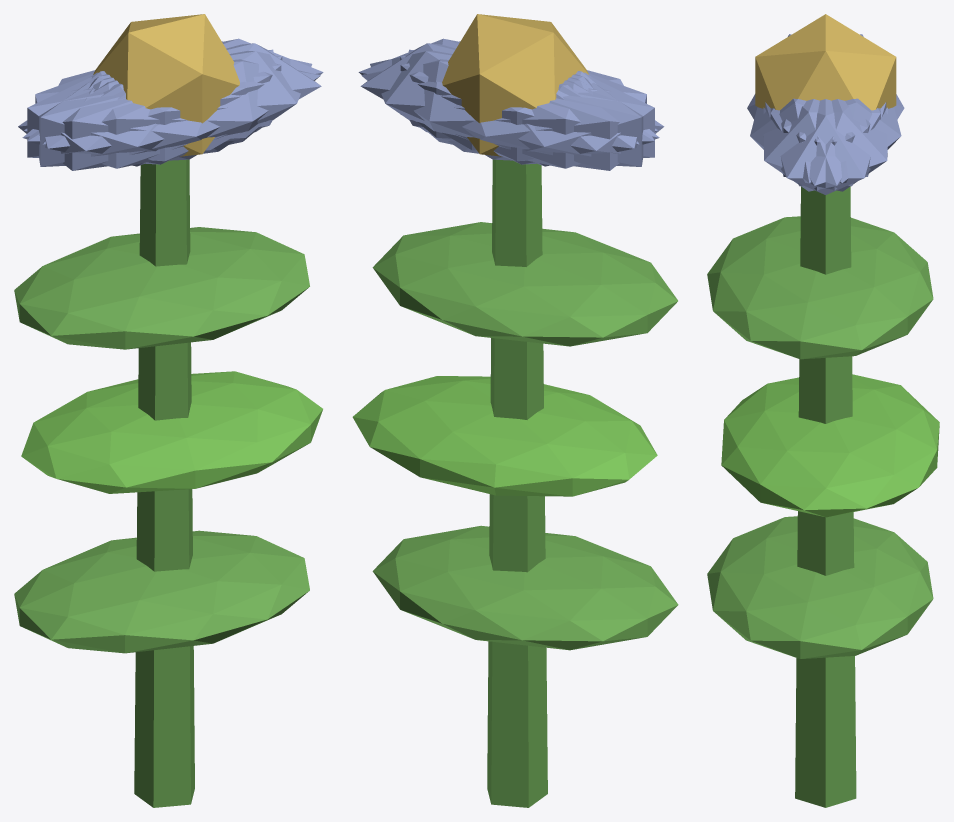
File: abelmoschus-esculentus.glb
3 renders of one model, left to right at view 1: azimuth 30°, elevation 25°; view 2: azimuth 150°, elevation 25°; view 3: azimuth 270°, elevation 25°, orthographic.
Parts seen in each view (by area): view 1: leaf2, leaf0, leaf1, stem, center, petal1, petal6, petal2, petal5, petal7, petal0, petal4 (+2 smaller); view 2: leaf2, leaf1, leaf0, stem, center, petal8, petal3, petal7, petal4, petal2, petal0, petal5 (+2 smaller); view 3: leaf2, leaf1, leaf0, stem, center, petal0, petal5, petal4, petal8, petal1.
Boxes of the visible parts, x1,y1,x2,y2 form: leaf2: (14, 227, 309, 349); leaf0: (14, 530, 309, 653); leaf1: (21, 371, 322, 493); stem: (134, 159, 194, 807); center: (93, 14, 239, 156); petal1: (22, 59, 320, 168); petal6: (18, 72, 233, 170); petal2: (39, 49, 273, 166); petal5: (43, 51, 312, 161); petal7: (27, 56, 282, 164); petal0: (93, 43, 321, 150); petal4: (24, 38, 323, 141); leaf2: (372, 222, 677, 346); leaf1: (352, 376, 657, 496); leaf0: (372, 525, 678, 650); stem: (487, 159, 547, 807); center: (442, 14, 588, 156); petal8: (361, 59, 659, 168); petal3: (448, 72, 664, 170); petal7: (408, 49, 643, 166); petal4: (370, 50, 639, 161); petal2: (400, 56, 654, 164); petal0: (360, 43, 589, 150); petal5: (358, 38, 657, 141); leaf2: (707, 216, 933, 359); leaf1: (721, 374, 939, 517); leaf0: (707, 516, 933, 658); stem: (795, 186, 856, 807); center: (755, 14, 896, 110); petal0: (765, 99, 886, 194); petal5: (763, 99, 880, 191); petal4: (770, 99, 887, 191); petal8: (781, 98, 901, 183); petal1: (750, 98, 870, 183).
Size of the model in its own units: 0.1452 by 0.365 by 0.101.
